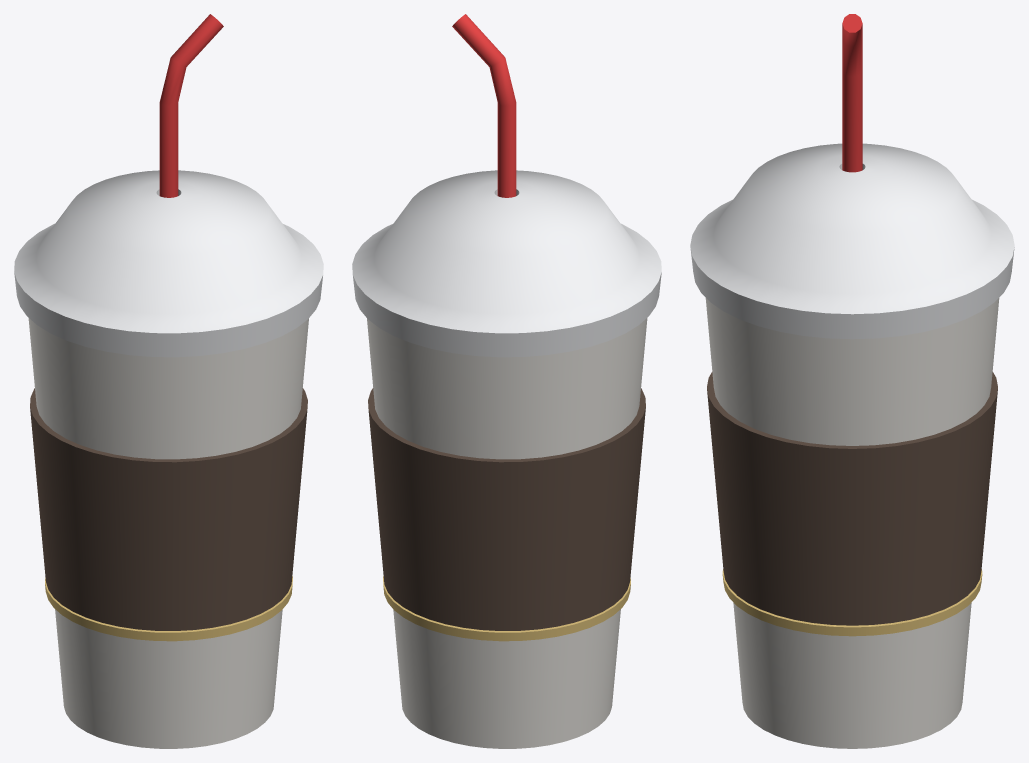
The model's file is food_cup.glb.
3 renders of one model, left to right at view 1: azimuth 30°, elevation 25°; view 2: azimuth 150°, elevation 25°; view 3: azimuth 270°, elevation 25°, orthographic. The views are drawn at different scales.
Parts seen in each view (by area): view 1: Cup_LOD0, Band_LOD0, Lid_LOD0, Straw_LOD0, Gold_LOD0; view 2: Cup_LOD0, Band_LOD0, Lid_LOD0, Straw_LOD0, Gold_LOD0; view 3: Cup_LOD0, Band_LOD0, Lid_LOD0, Straw_LOD0, Gold_LOD0.
Part boxes in pixels (x1,y1,x2,y2): Cup_LOD0: [28, 318, 308, 748]; Band_LOD0: [30, 388, 307, 630]; Lid_LOD0: [14, 170, 323, 357]; Straw_LOD0: [159, 14, 223, 197]; Gold_LOD0: [45, 576, 292, 641]; Cup_LOD0: [367, 318, 647, 748]; Band_LOD0: [368, 388, 645, 630]; Lid_LOD0: [352, 170, 661, 357]; Straw_LOD0: [452, 14, 516, 197]; Gold_LOD0: [383, 576, 630, 641]; Cup_LOD0: [705, 298, 999, 748]; Band_LOD0: [707, 372, 997, 625]; Lid_LOD0: [690, 143, 1014, 339]; Straw_LOD0: [842, 14, 862, 172]; Gold_LOD0: [722, 569, 982, 636].
Size of the model in its own units: 0.112 by 0.2706 by 0.112.
